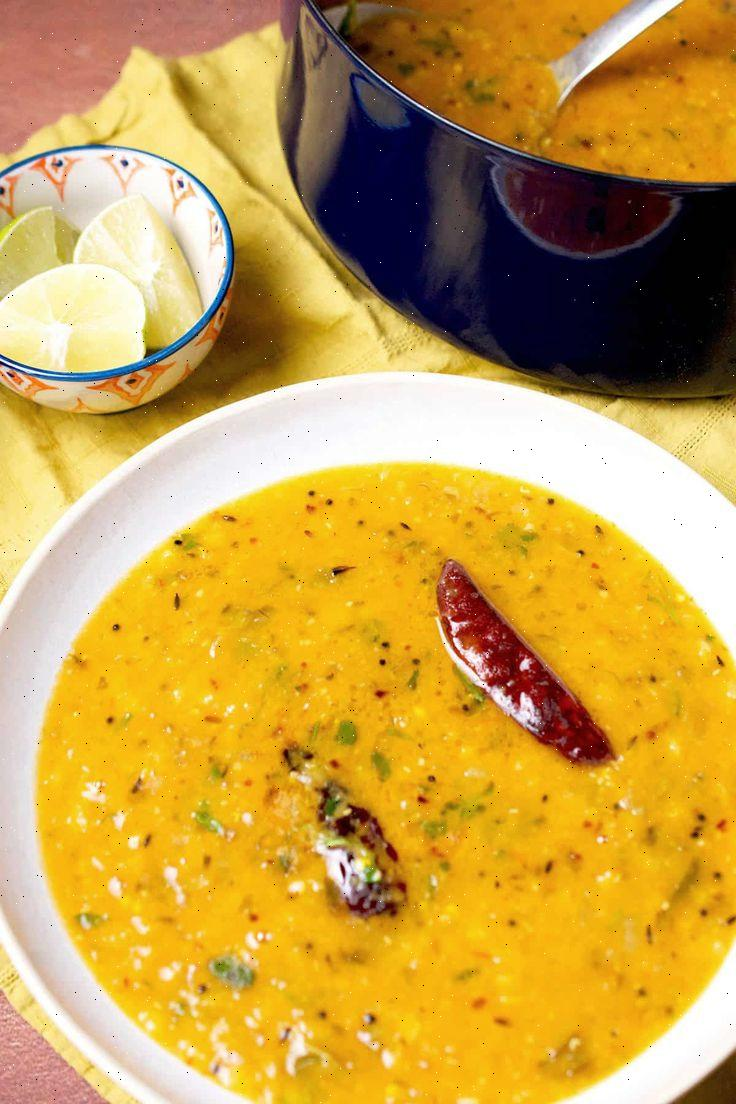daal: (100, 507, 736, 1104), (375, 0, 736, 154)
